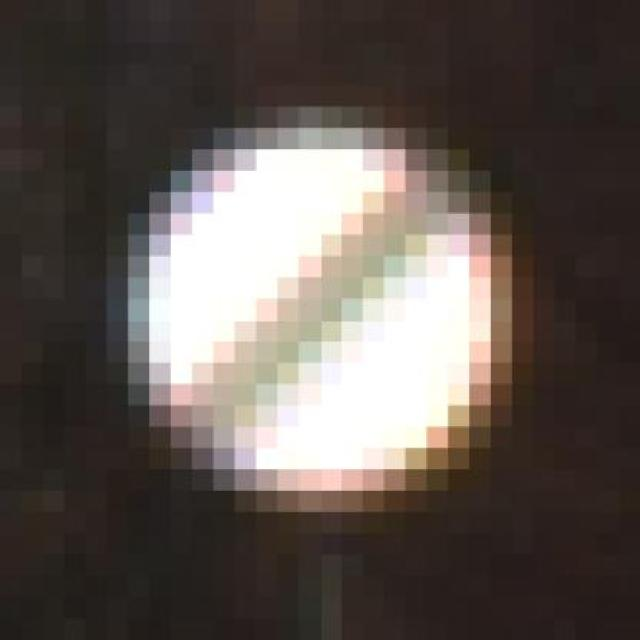End of all speed and passing limits: (107, 106, 555, 512)
